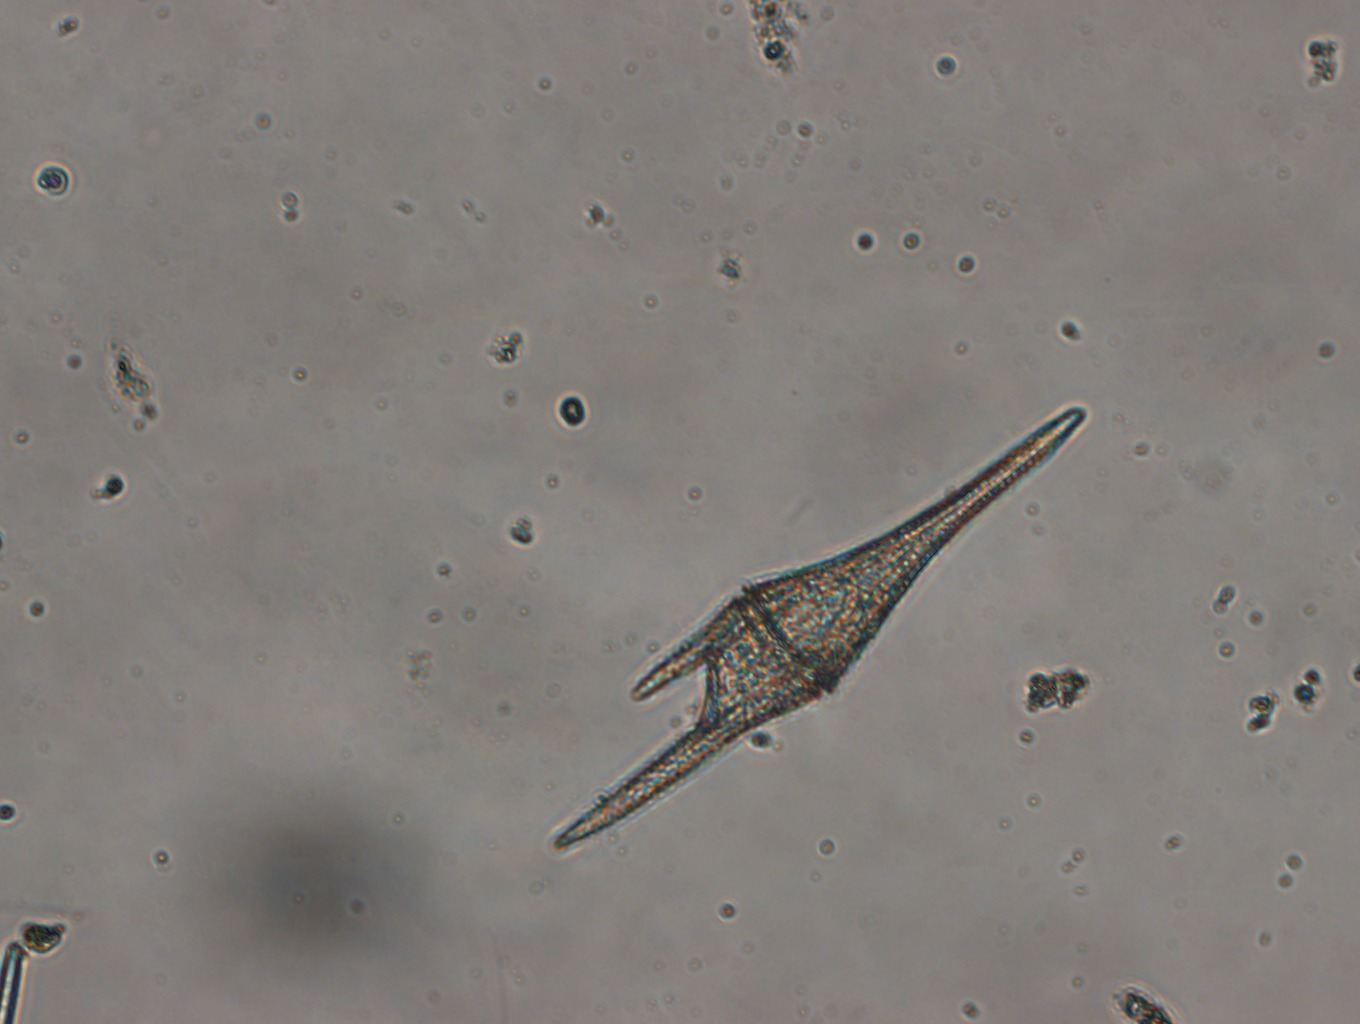ceratium furca: (545, 402, 1089, 862)
